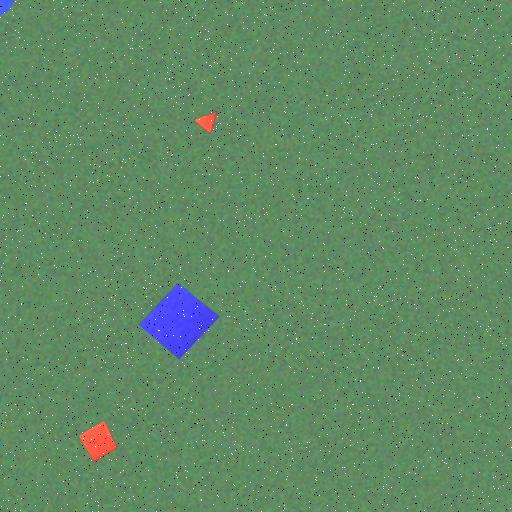BLUE_SQUARE: (138, 282, 220, 360)
RED_SQUARE: (78, 420, 118, 462)
